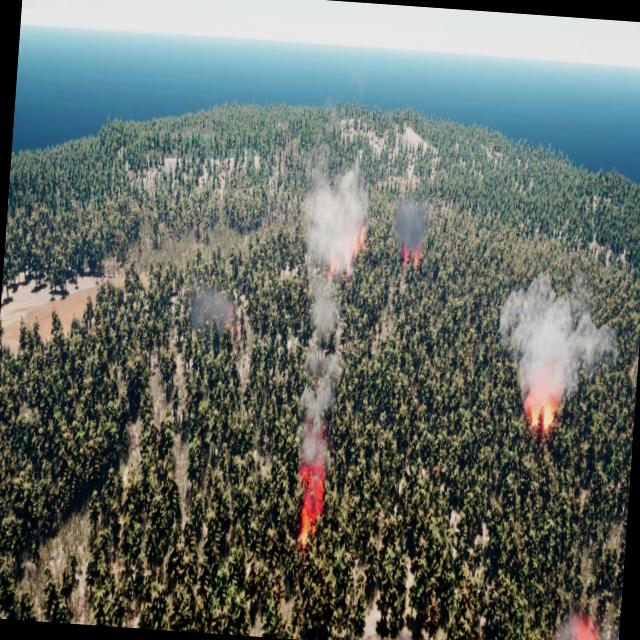fire: (294, 463, 326, 545), (522, 398, 560, 426)
smoke: (290, 158, 376, 450), (494, 264, 622, 416), (186, 282, 239, 351), (393, 200, 434, 270), (548, 607, 619, 640)
